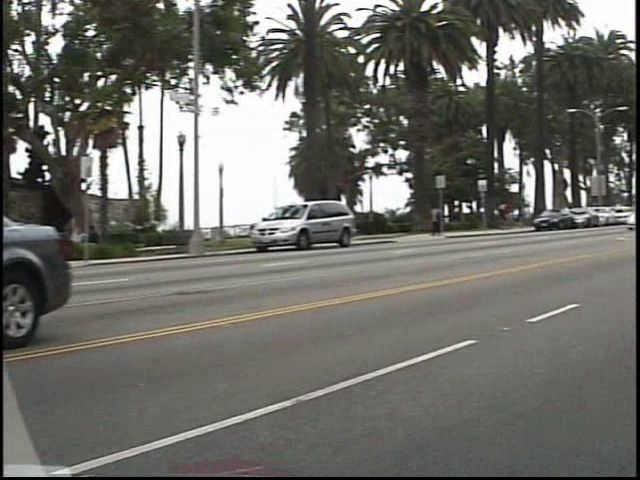person: (438, 201, 459, 241), (508, 197, 527, 232)
